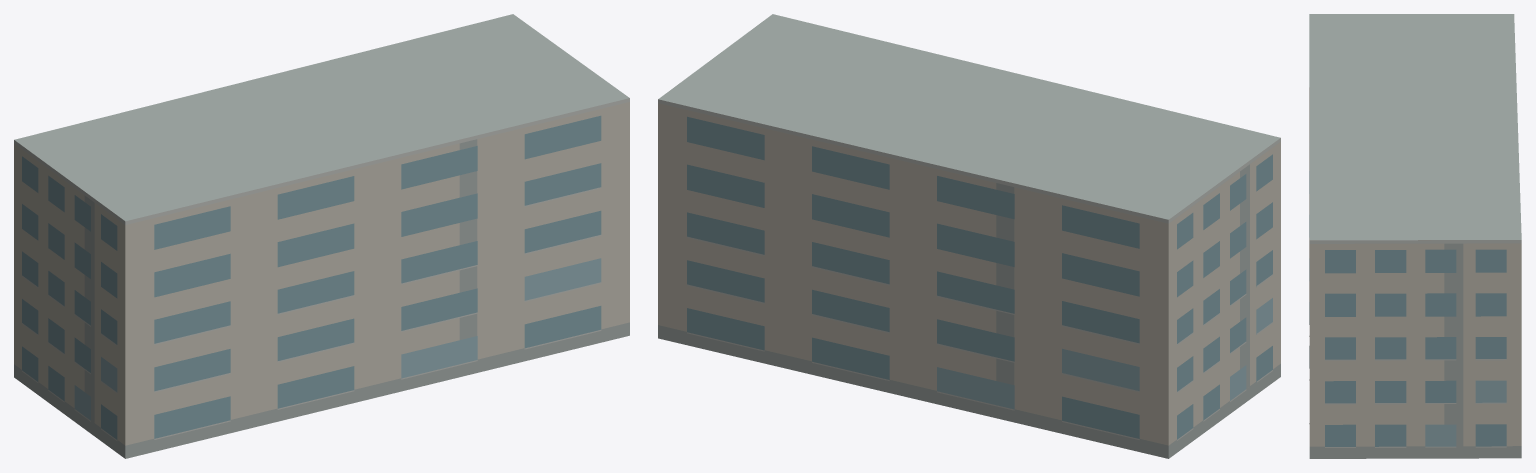
Rendered from survey-upis-32634721.glb.
3 renders of one model, left to right at view 1: azimuth 30°, elevation 25°; view 2: azimuth 150°, elevation 25°; view 3: azimuth 270°, elevation 25°, orthographic. The views are drawn at different scales.
Parts seen in each view (by area): view 1: survey-upis-32634721.tmp; view 2: survey-upis-32634721.tmp; view 3: survey-upis-32634721.tmp.
Boxes of the visible parts, box(x1,y1,x2,y2) form: survey-upis-32634721.tmp: box(14, 14, 629, 458); survey-upis-32634721.tmp: box(658, 14, 1280, 458); survey-upis-32634721.tmp: box(1309, 14, 1521, 458).
Size of the model in its own units: 33.92 by 15.25 by 13.45.
